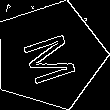M_E: (17, 25, 82, 85)
